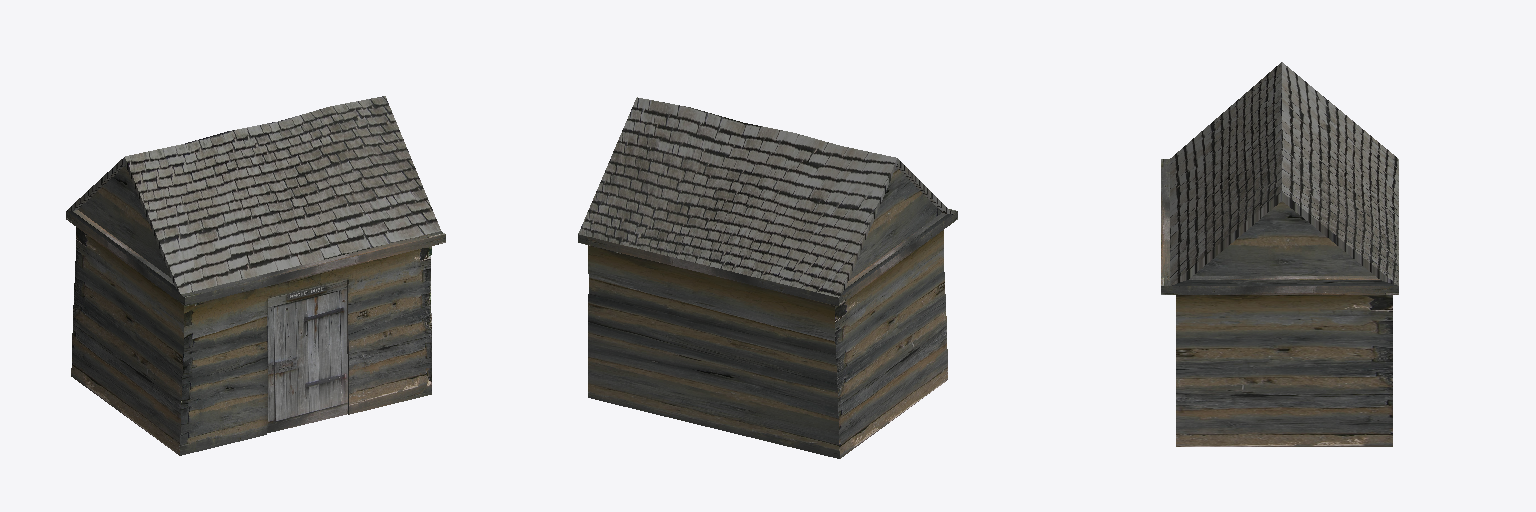
The picture shows the model from 3 angles: view 1: azimuth 30°, elevation 25°; view 2: azimuth 150°, elevation 25°; view 3: azimuth 270°, elevation 25°; orthographic projection.
Visible parts, largest first — view 1: smokehouse, door; view 2: smokehouse; view 3: smokehouse.
Part boxes in pixels (x1,y1,x2,y2): smokehouse: (66,96,445,455); door: (267,280,347,432); smokehouse: (578,97,957,458); smokehouse: (1161,62,1398,446).
Size of the model in its own units: 9.01 by 8.63 by 7.11.
1 materials, 1 textured.